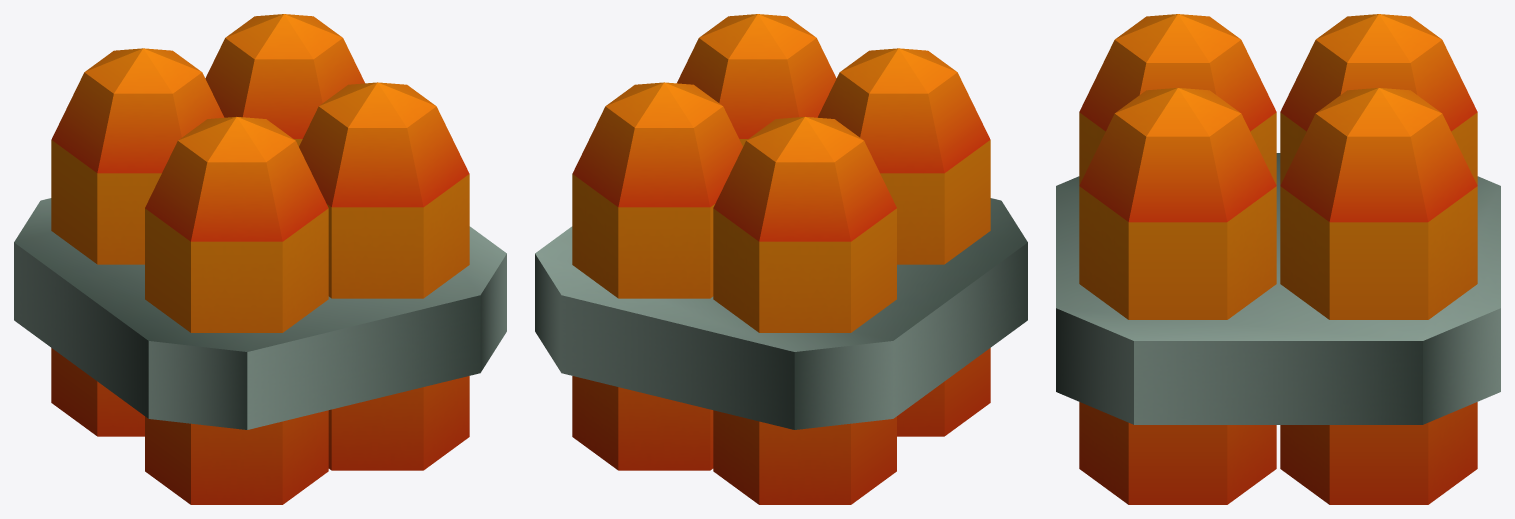
The model's file is item_003.fbx.
3 renders of one model, left to right at view 1: azimuth 30°, elevation 25°; view 2: azimuth 150°, elevation 25°; view 3: azimuth 270°, elevation 25°, orthographic. The views are drawn at different scales.
Parts seen in each view (by area): view 1: item.003; view 2: item.003; view 3: item.003.
Part boxes in pixels (x1,y1,x2,y2): item.003: (14, 14, 506, 504); item.003: (535, 14, 1027, 504); item.003: (1056, 14, 1500, 504).
Bounding box in the file's own units: 130 × 123 × 130.
